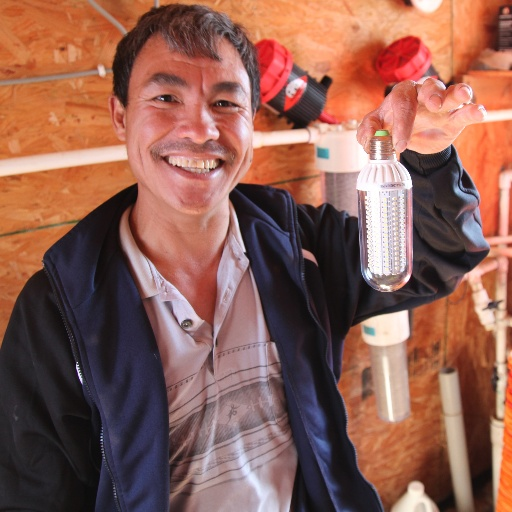hand: (366, 71, 486, 153)
